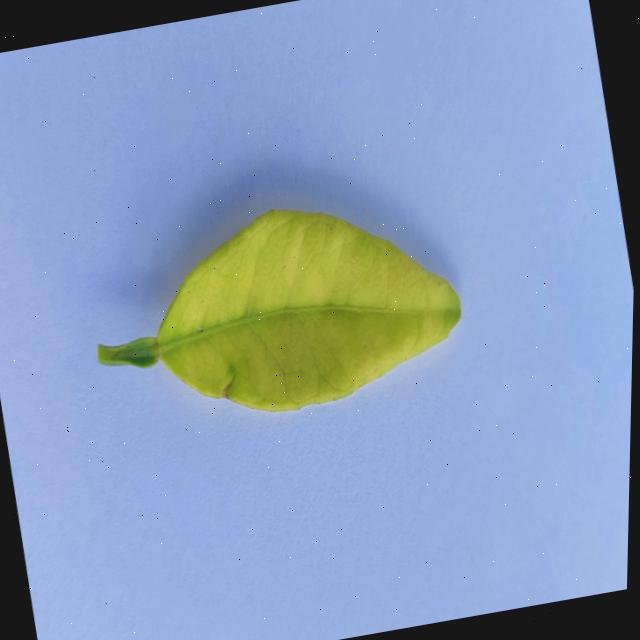greening: (98, 209, 460, 409)
